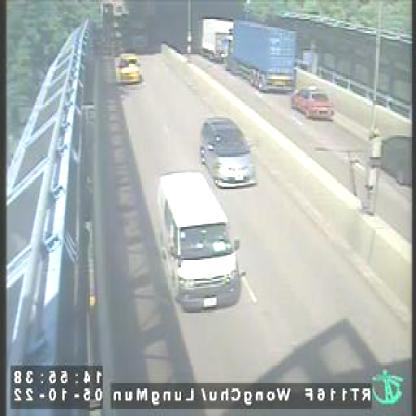Car: (160, 170, 239, 308), (203, 116, 257, 186), (382, 126, 412, 186), (291, 85, 334, 116), (119, 52, 142, 83)
Truck: (232, 19, 296, 92)
